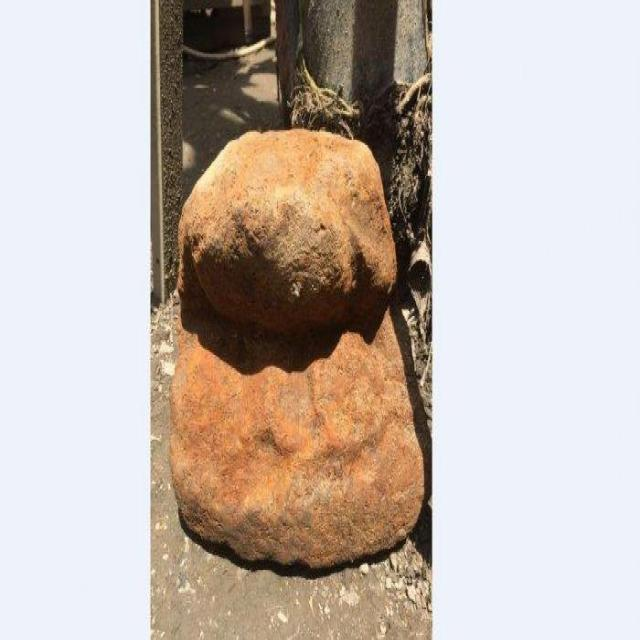Pecahan Agregat: (167, 100, 455, 570)
